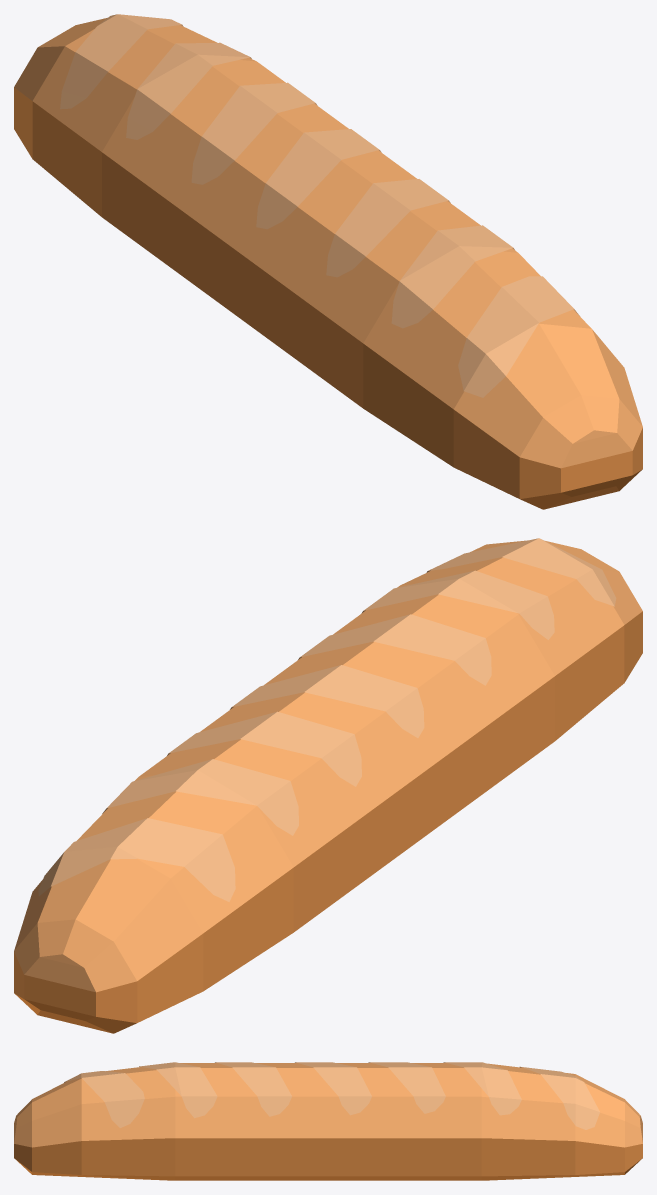
The model's file is BAKE_Baquette_02.fbx.
The picture shows the model from 3 angles, top to bottom: view 1: azimuth 30°, elevation 25°; view 2: azimuth 150°, elevation 25°; view 3: azimuth 270°, elevation 25°; orthographic projection. The views are drawn at different scales.
Visible parts, largest first — view 1: BAKE_Baquette_02; view 2: BAKE_Baquette_02; view 3: BAKE_Baquette_02.
Part boxes in pixels (x1,y1,x2,y2): BAKE_Baquette_02: (14, 14, 642, 509); BAKE_Baquette_02: (14, 538, 642, 1033); BAKE_Baquette_02: (14, 1062, 642, 1180).
Bounding box in the file's own units: 0.1594 × 0.131 × 0.7724.
